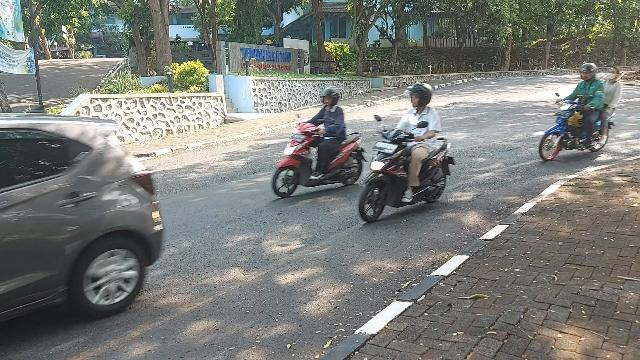helm: (407, 84, 433, 108), (322, 88, 341, 107), (581, 64, 598, 82)
motor: (360, 116, 456, 224), (273, 116, 369, 200), (540, 94, 616, 163)
non-helm: (609, 68, 620, 80)
